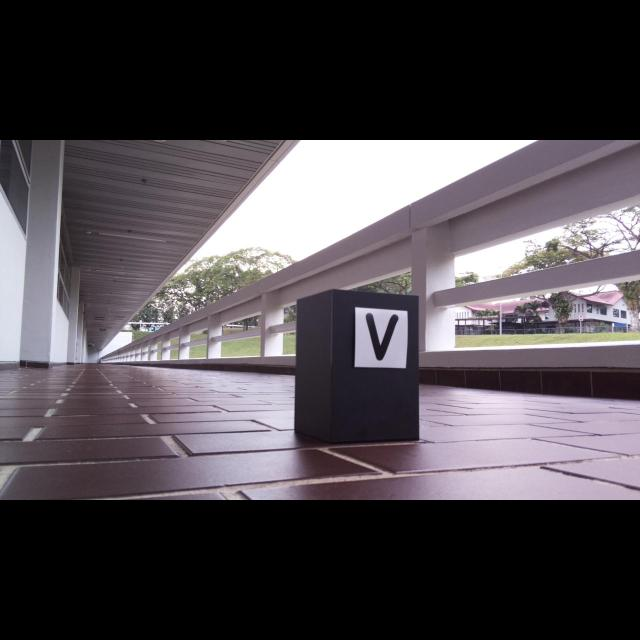V: (365, 313, 398, 361)
